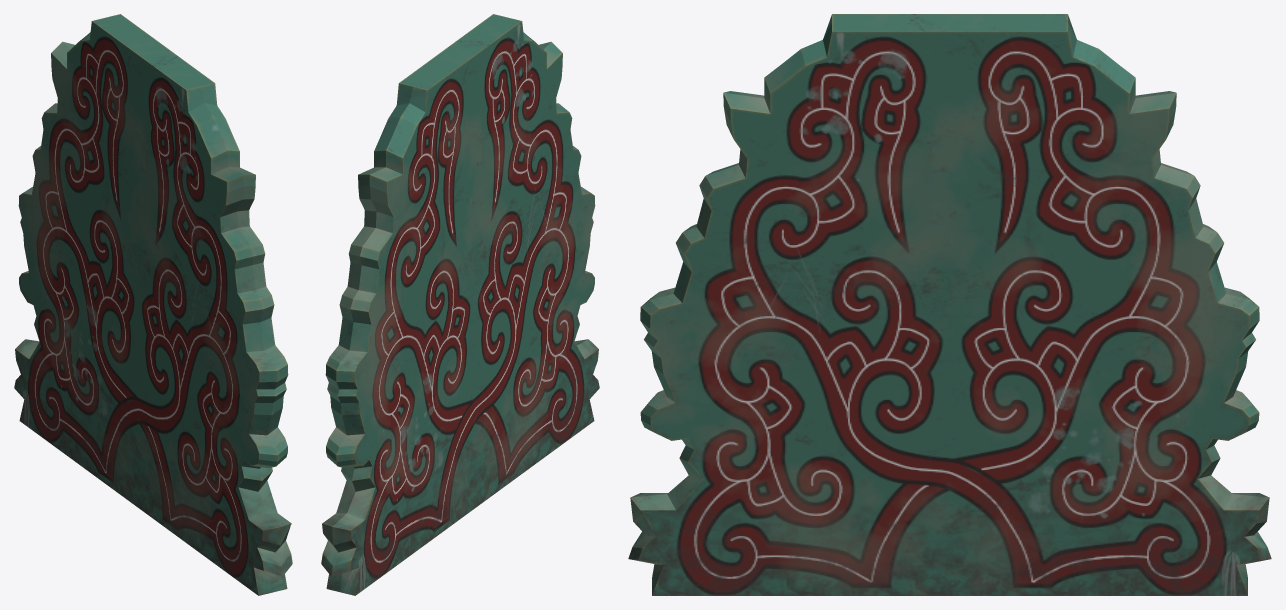
The model's file is SM_Daegong01b.fbx.
3 views of the same model, side by side, from view 1: azimuth 30°, elevation 25°; view 2: azimuth 150°, elevation 25°; view 3: azimuth 270°, elevation 25° (orthographic). The views are drawn at different scales.
Visible parts, largest first — view 1: SM_Daegong01b; view 2: SM_Daegong01b; view 3: SM_Daegong01b.
Part boxes in pixels (x1,y1,x2,y2): SM_Daegong01b: [14, 14, 292, 595]; SM_Daegong01b: [321, 14, 599, 595]; SM_Daegong01b: [628, 14, 1271, 595].
Bounding box in the file's own units: 5 × 77.49 × 75.
Materials: 1 (1 with a texture image).
